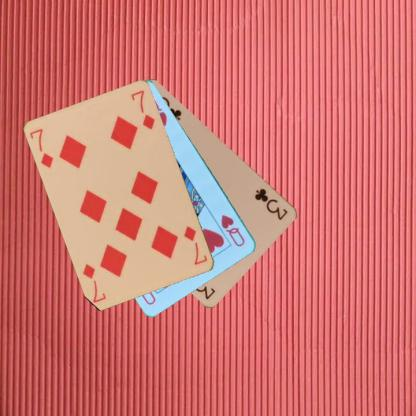3c: (252, 185, 289, 222)
7d: (27, 126, 56, 170), (182, 223, 209, 266)
Qh: (218, 212, 247, 249)
